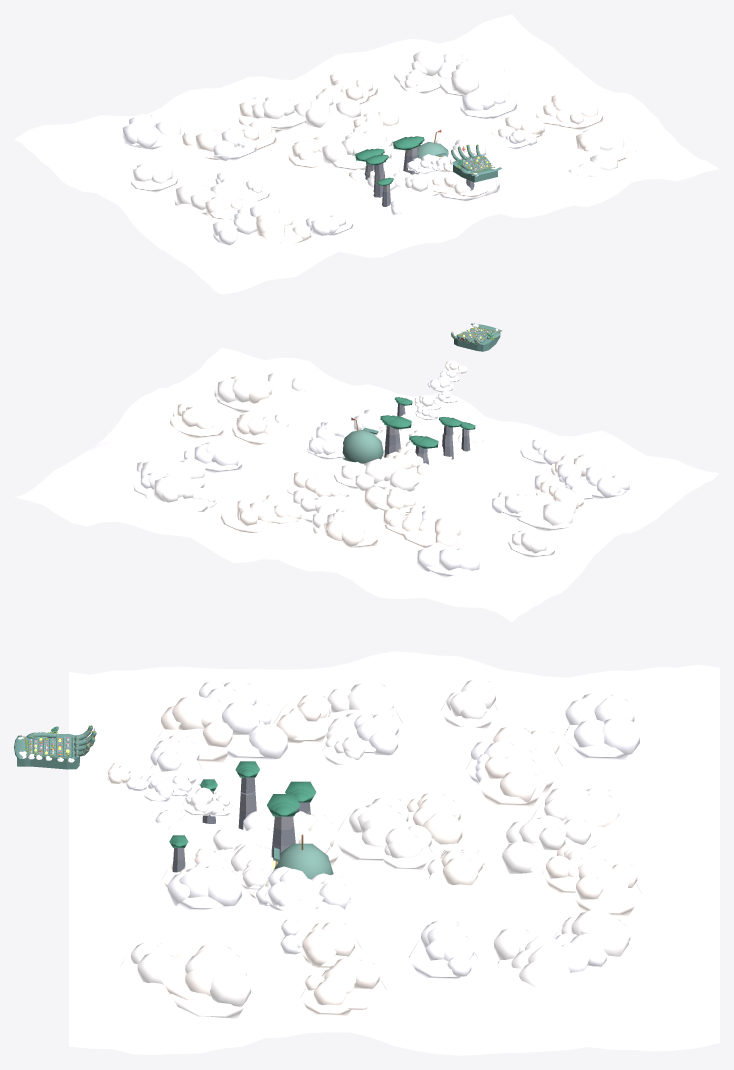
Rendered from _pkg_estimate.glb.
3 views of the same model, one above another, from view 1: azimuth 30°, elevation 25°; view 2: azimuth 150°, elevation 25°; view 3: azimuth 270°, elevation 25° (orthographic). The views are drawn at different scales.
Visible parts, largest first — view 1: cloudsea, Icosphere.260, Icosphere.492, Icosphere.281, Icosphere.460, Icosphere.351, Icosphere.442, Icosphere.456; view 2: cloudsea, Icosphere.648, Icosphere.267, Icosphere.386, Icosphere.365, Icosphere.266, Icosphere.379; view 3: cloudsea, Icosphere.648, Icosphere.479, Icosphere.365, Icosphere.266, Icosphere.442, Icosphere.341, Icosphere.484, Icosphere.260, Icosphere.496, Icosphere.296, Icosphere.323 (+33 smaller).
Boxes of the visible parts, <box> form: cloudsea: <box>14,14,719,294</box>; Icosphere.260: <box>460,96,517,118</box>; Icosphere.492: <box>413,48,443,75</box>; Icosphere.281: <box>565,143,628,164</box>; Icosphere.460: <box>451,70,478,94</box>; Icosphere.351: <box>130,172,177,192</box>; Icosphere.442: <box>330,145,391,170</box>; Icosphere.456: <box>258,108,305,130</box>; cloudsea: <box>14,348,719,622</box>; Icosphere.648: <box>342,429,383,463</box>; Icosphere.267: <box>512,502,579,531</box>; Icosphere.386: <box>169,415,224,438</box>; Icosphere.365: <box>220,509,270,532</box>; Icosphere.266: <box>543,500,573,529</box>; Icosphere.379: <box>400,529,468,548</box>; cloudsea: <box>69,651,719,1055</box>; Icosphere.648: <box>274,843,333,879</box>; Icosphere.479: <box>210,966,250,1006</box>; Icosphere.365: <box>572,883,641,916</box>; Icosphere.266: <box>347,681,393,712</box>; Icosphere.442: <box>334,813,384,861</box>; Icosphere.341: <box>603,716,639,754</box>; Icosphere.484: <box>170,991,252,1018</box>; Icosphere.260: <box>408,937,477,979</box>; Icosphere.496: <box>581,915,628,956</box>; Icosphere.296: <box>502,840,539,873</box>; Icosphere.323: <box>478,776,546,806</box>.
Size of the model in its own units: 180 by 32.75 by 141.
